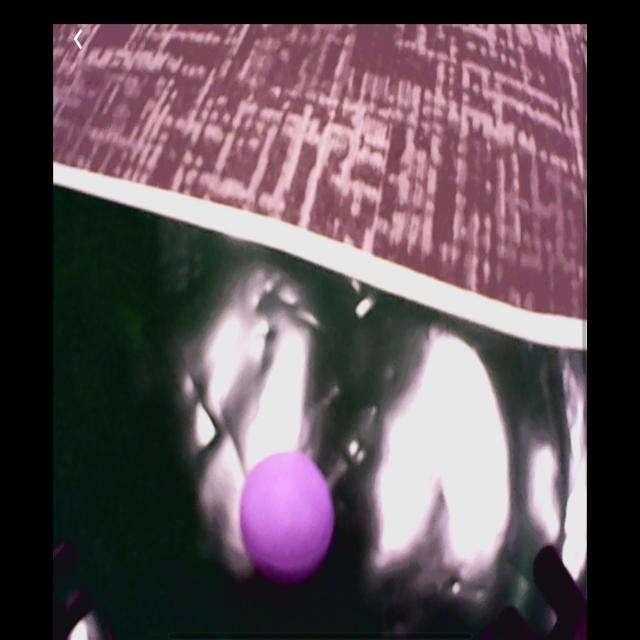ball: (240, 454, 337, 582)
